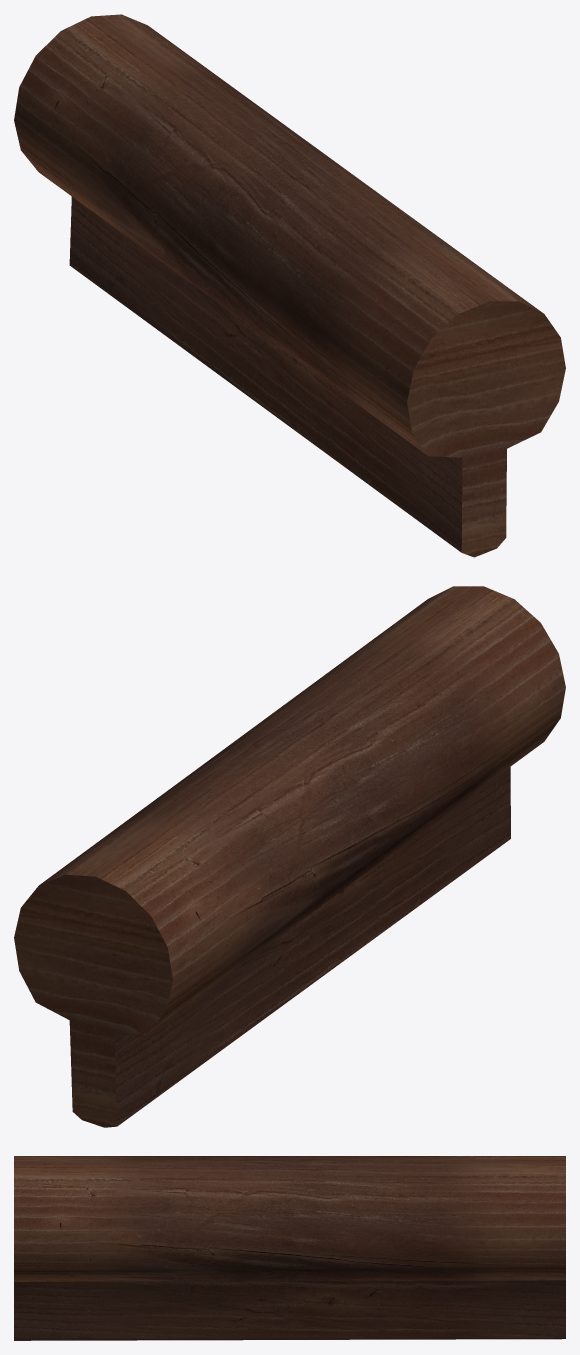
File: SM_R_Dancheong_35.fbx
3 renders of one model, top to bottom at view 1: azimuth 30°, elevation 25°; view 2: azimuth 150°, elevation 25°; view 3: azimuth 270°, elevation 25°, orthographic. The views are drawn at different scales.
Parts seen in each view (by area): view 1: SM_R_Dancheong_35; view 2: SM_R_Dancheong_35; view 3: SM_R_Dancheong_35.
Part boxes in pixels (bbox=[...]): SM_R_Dancheong_35: bbox=[14, 14, 565, 557]; SM_R_Dancheong_35: bbox=[14, 586, 565, 1127]; SM_R_Dancheong_35: bbox=[14, 1156, 565, 1340].
Size of the model in its own units: 30.36 by 129 by 45.85.
Materials: 1 (1 with a texture image).
